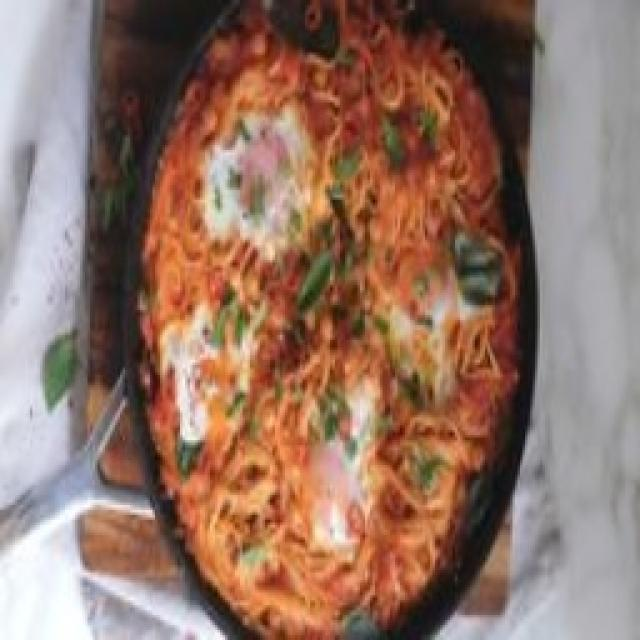Chakchouka: (125, 0, 538, 640)
